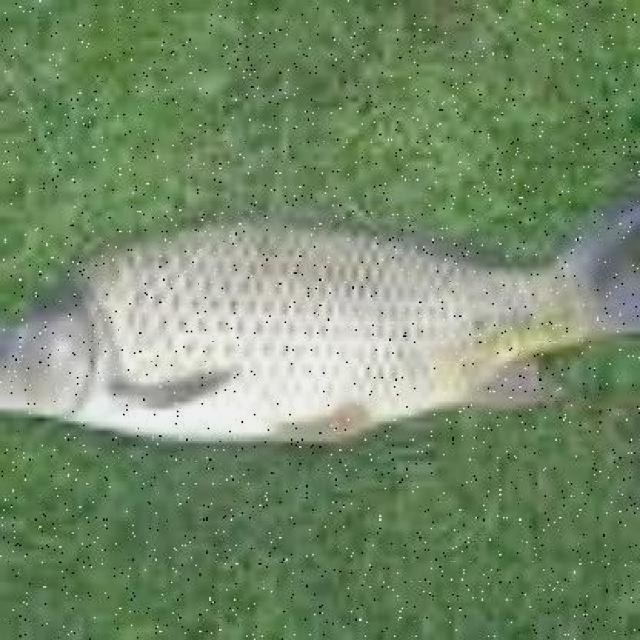ikan-mas: (6, 204, 640, 452)
